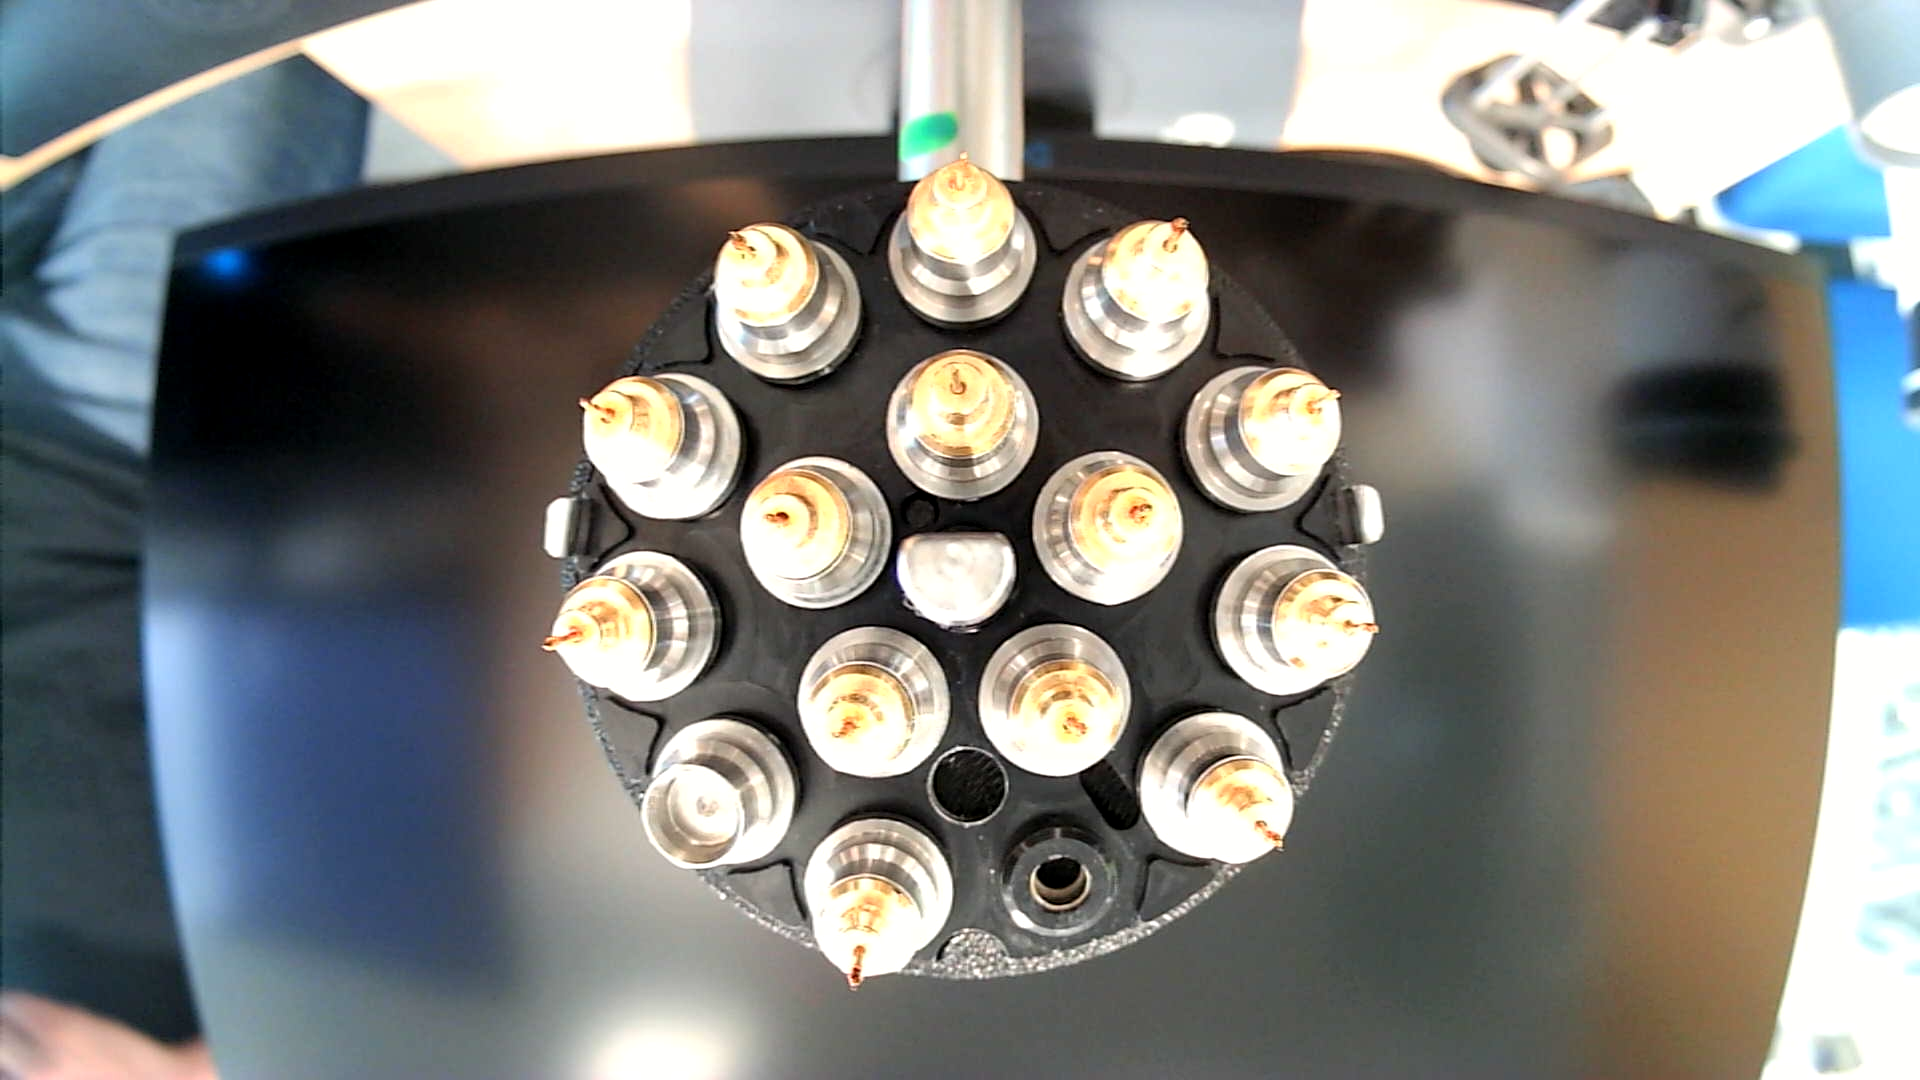adapter: (641, 713, 795, 872)
empty: (993, 816, 1131, 947)
hole: (923, 742, 1010, 832)
pin: (799, 811, 956, 993), (541, 549, 725, 703), (1208, 541, 1379, 698), (884, 152, 1036, 327), (574, 369, 742, 527), (709, 222, 865, 392), (1062, 214, 1213, 385), (1135, 707, 1298, 866), (793, 625, 952, 782), (882, 345, 1042, 502), (1178, 361, 1340, 514), (1030, 446, 1184, 605), (737, 452, 891, 612), (978, 620, 1134, 777)
rod: (894, 525, 1023, 637)
